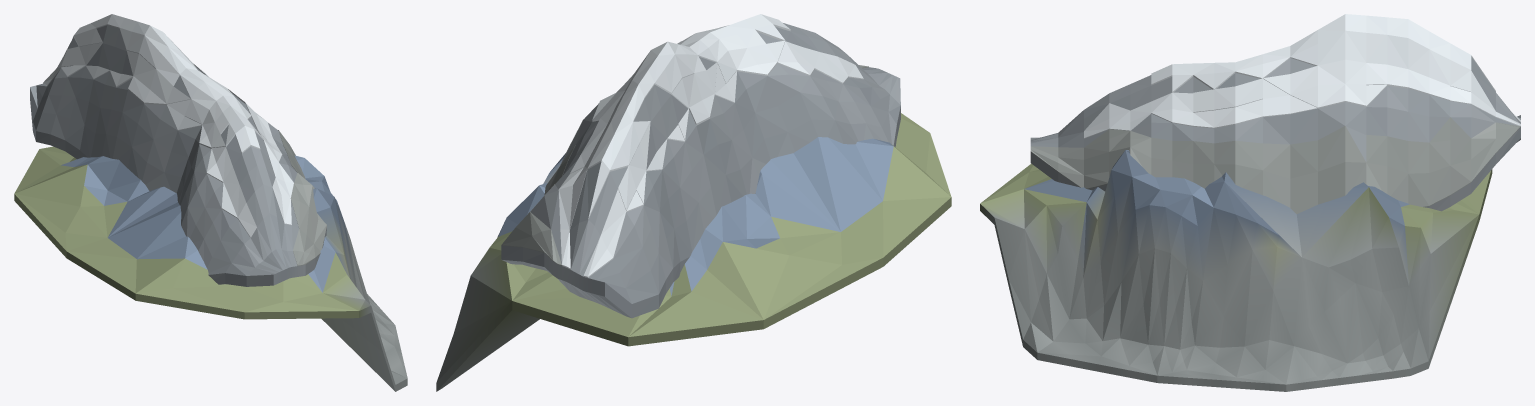
The model's file is massif_cirque_wall_rim53.glb.
The picture shows the model from 3 angles, left to right: view 1: azimuth 30°, elevation 25°; view 2: azimuth 150°, elevation 25°; view 3: azimuth 270°, elevation 25°; orthographic projection. The views are drawn at different scales.
Parts seen in each view (by area): view 1: rock_body, ridge_shoulders, snow_cap, snow_gully, shore_rock_apron; view 2: rock_body, ridge_shoulders, snow_cap, snow_gully, shore_rock_apron; view 3: rock_body, shore_rock_apron, snow_cap, ridge_shoulders, snow_gully.
Boxes of the visible parts, x1=… form: rock_body: x1=14, y1=146, x2=407, y2=391; ridge_shoulders: x1=30, y1=25, x2=326, y2=286; snow_cap: x1=61, y1=14, x2=267, y2=153; snow_gully: x1=43, y1=42, x2=293, y2=237; shore_rock_apron: x1=278, y1=130, x2=326, y2=265; rock_body: x1=436, y1=113, x2=951, y2=391; ridge_shoulders: x1=501, y1=23, x2=900, y2=318; snow_cap: x1=570, y1=14, x2=790, y2=219; snow_gully: x1=558, y1=41, x2=863, y2=277; shore_rock_apron: x1=501, y1=65, x2=868, y2=265; rock_body: x1=980, y1=150, x2=1492, y2=391; shore_rock_apron: x1=1030, y1=117, x2=1520, y2=213; snow_cap: x1=1151, y1=14, x2=1495, y2=112; ridge_shoulders: x1=1030, y1=57, x2=1520, y2=211; snow_gully: x1=1084, y1=71, x2=1520, y2=138.
Bounding box in the file's own units: 454 × 407 × 687.
